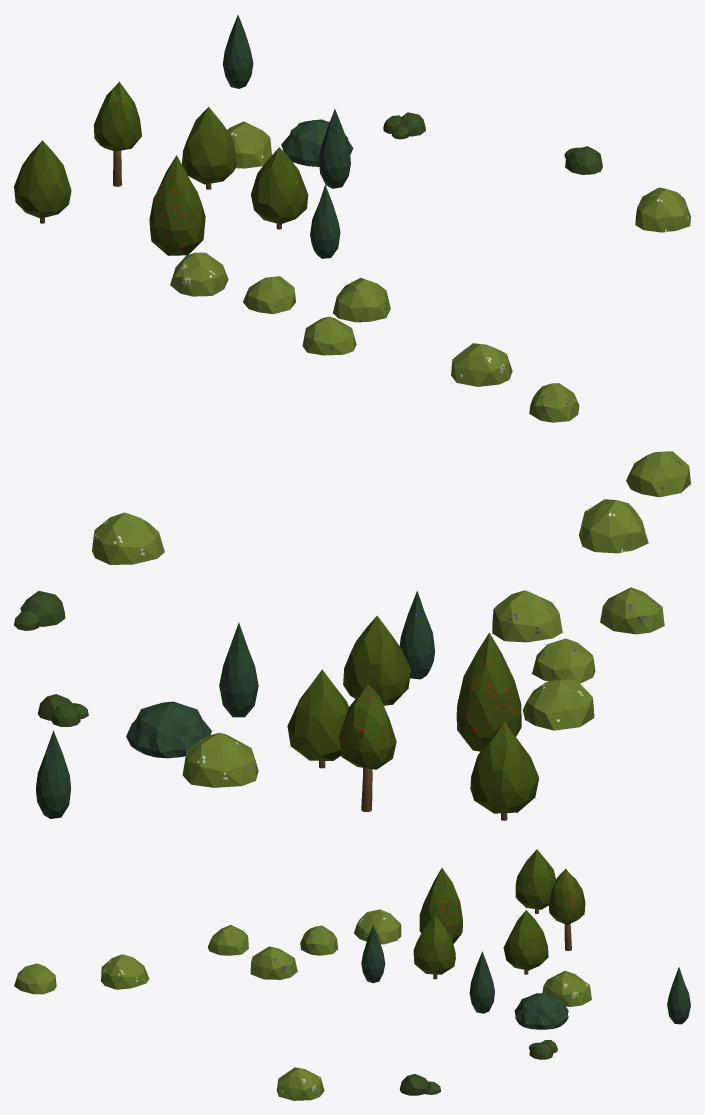
Rendered from Bushes8.gltf.
The picture shows the model from 3 angles, top to bottom: view 1: azimuth 30°, elevation 25°; view 2: azimuth 150°, elevation 25°; view 3: azimuth 270°, elevation 25°; orthographic projection. The views are drawn at different scales.
Parts seen in each view (by area): view 1: Hollytree3 - copy.011, Hollytree2 - copy.021, Hollytree2 - copy.007, Hollytree2 - copy.011, Hollytree1 - copy.009, ElderberryBush1 - copy.021, ElderberryBush1 - copy.012, ElderberryBush1 - copy.003, ElderberryBush2 - copy.019, JuniperBush2 - copy.009, ElderberryBush2 - copy.015, JuniperBush1 - copy.005 (+7 smaller); view 2: Hollytree3 - copy.011, Hollytree2 - copy.021, Hollytree1 - copy.009, Hollytree2 - copy.007, Hollytree2 - copy.011, JuniperBush1 - copy.005, ElderberryBush1 - copy.022, ElderberryBush1 - copy.021, ElderberryBush1 - copy.012, ElderberryBush1 - copy.003, ElderberryBush2 - copy.019, JuniperBush2 - copy.009 (+7 smaller); view 3: Hollytree2 - copy.011, Hollytree3 - copy.011, Hollytree2 - copy.007, Hollytree2 - copy.021, Hollytree1 - copy.009, JuniperBush1 - copy.005, ElderberryBush1 - copy.021, ElderberryBush1 - copy.012, ElderberryBush2 - copy.019, ElderberryBush1 - copy.022, ElderberryBush1 - copy.003, JuniperBush2 - copy.009 (+7 smaller).
Part boxes in pixels (x1,y1,x2,y2): Hollytree3 - copy.011: [149, 155, 205, 255]; Hollytree2 - copy.021: [14, 140, 71, 223]; Hollytree2 - copy.007: [251, 147, 308, 229]; Hollytree2 - copy.011: [182, 107, 236, 189]; Hollytree1 - copy.009: [93, 81, 141, 186]; ElderberryBush1 - copy.021: [451, 343, 512, 386]; ElderberryBush1 - copy.012: [635, 187, 690, 232]; ElderberryBush1 - copy.003: [170, 252, 228, 296]; ElderberryBush2 - copy.019: [333, 277, 390, 322]; JuniperBush2 - copy.009: [318, 109, 350, 188]; ElderberryBush2 - copy.015: [302, 316, 356, 355]; JuniperBush1 - copy.005: [281, 119, 353, 166]; Hollytree3 - copy.011: [456, 632, 521, 751]; Hollytree2 - copy.021: [470, 721, 538, 820]; Hollytree1 - copy.009: [339, 684, 396, 811]; Hollytree2 - copy.007: [343, 615, 411, 705]; Hollytree2 - copy.011: [287, 669, 348, 768]; JuniperBush1 - copy.005: [126, 701, 211, 758]; ElderberryBush1 - copy.022: [182, 732, 258, 787]; ElderberryBush1 - copy.021: [579, 499, 648, 553]; ElderberryBush1 - copy.012: [92, 512, 164, 564]; ElderberryBush1 - copy.003: [523, 679, 594, 730]; ElderberryBush2 - copy.019: [492, 590, 562, 642]; JuniperBush2 - copy.009: [219, 622, 258, 717]; Hollytree2 - copy.011: [503, 910, 548, 974]; Hollytree3 - copy.011: [419, 868, 462, 943]; Hollytree2 - copy.007: [413, 915, 455, 979]; Hollytree2 - copy.021: [515, 849, 555, 913]; Hollytree1 - copy.009: [549, 868, 585, 950]; JuniperBush1 - copy.005: [514, 993, 568, 1029]; ElderberryBush1 - copy.021: [101, 954, 149, 989]; ElderberryBush1 - copy.012: [276, 1067, 324, 1100]; ElderberryBush2 - copy.019: [250, 946, 297, 979]; ElderberryBush1 - copy.022: [542, 971, 591, 1006]; ElderberryBush1 - copy.003: [354, 909, 401, 944]; JuniperBush2 - copy.009: [469, 951, 494, 1013].
Size of the model in its own units: 22.01 by 4.33 by 31.98.
Materials: 9 (9 with a texture image).
